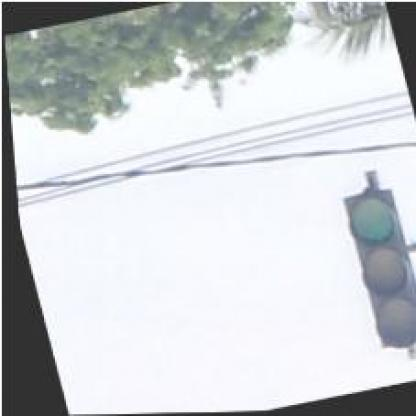green: (334, 185, 414, 354)
